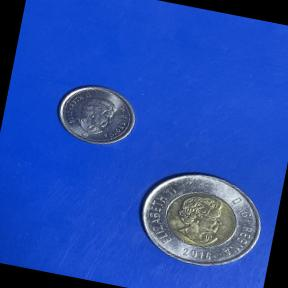Canada-10cent-B: (47, 74, 147, 156)
Canada-2Dollar-B: (126, 158, 275, 282)
